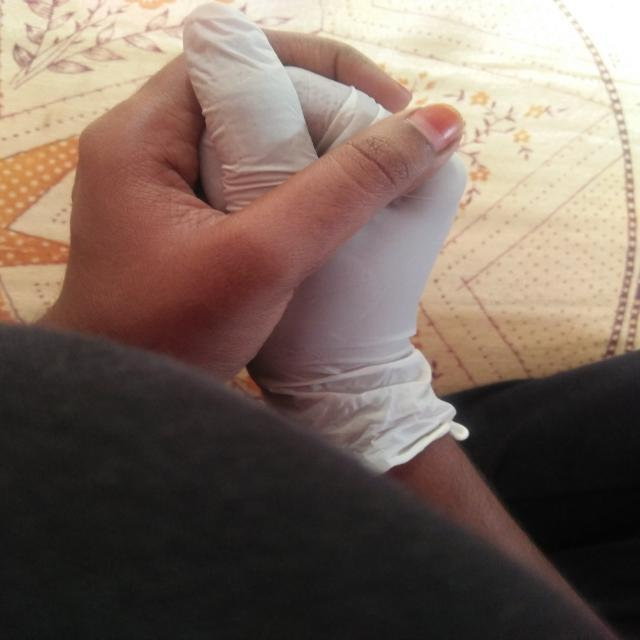glove_hand: (162, 0, 490, 481)
